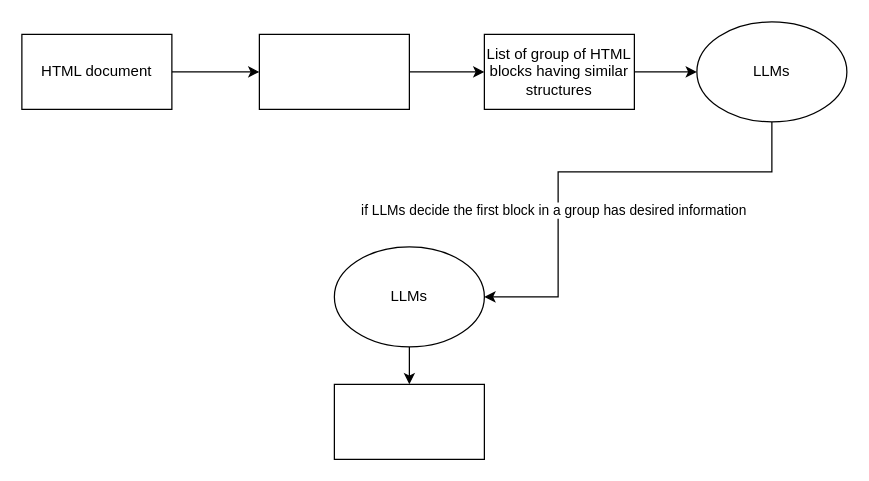
The diagram is 869 pixels wide and 481 high, and some of its shapes have lost their labels. The centre of each missing label's shape, as x and y in pixels:
Extracted information: pixel 408 421
Refined HTML document: pixel 333 71
